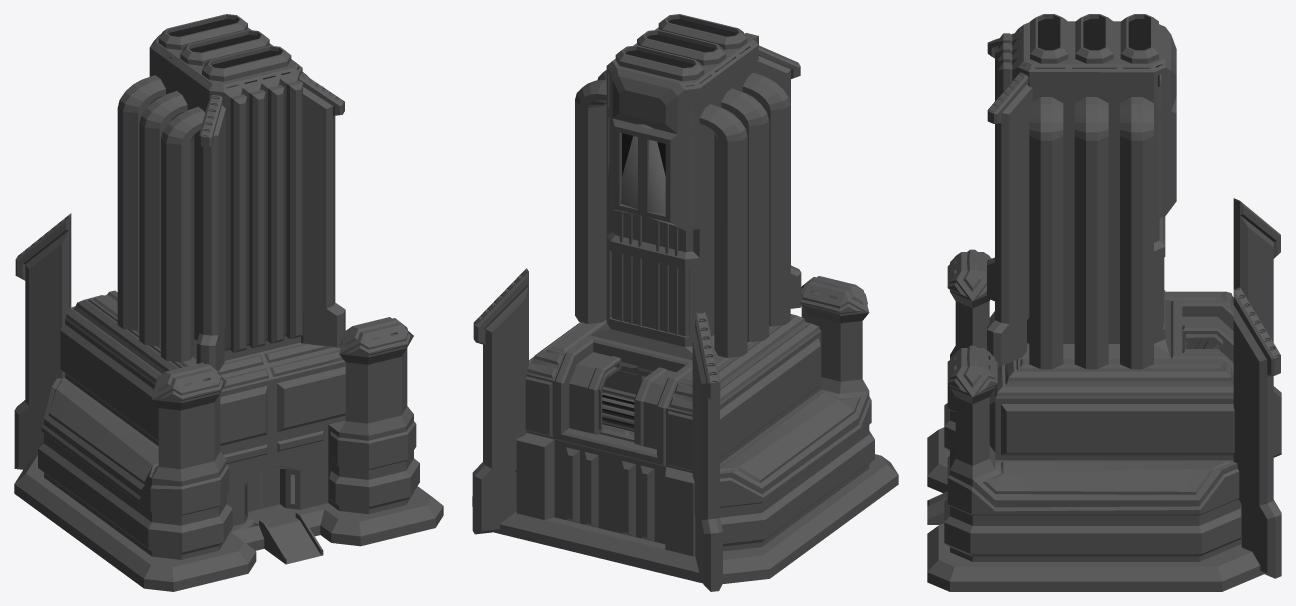
The model's file is recyclingbranch.dae.
The picture shows the model from 3 angles, left to right: view 1: azimuth 30°, elevation 25°; view 2: azimuth 150°, elevation 25°; view 3: azimuth 270°, elevation 25°; orthographic projection. The views are drawn at different scales.
Visible parts, largest first — view 1: RecyclingBranch_Foundation; view 2: RecyclingBranch_Foundation; view 3: RecyclingBranch_Foundation.
Part boxes in pixels (x1=…): RecyclingBranch_Foundation: x1=14, y1=14, x2=443, y2=591; RecyclingBranch_Foundation: x1=472, y1=14, x2=898, y2=591; RecyclingBranch_Foundation: x1=927, y1=14, x2=1281, y2=591.
Bounding box in the file's own units: 47.52 × 46.41 × 69.73.
